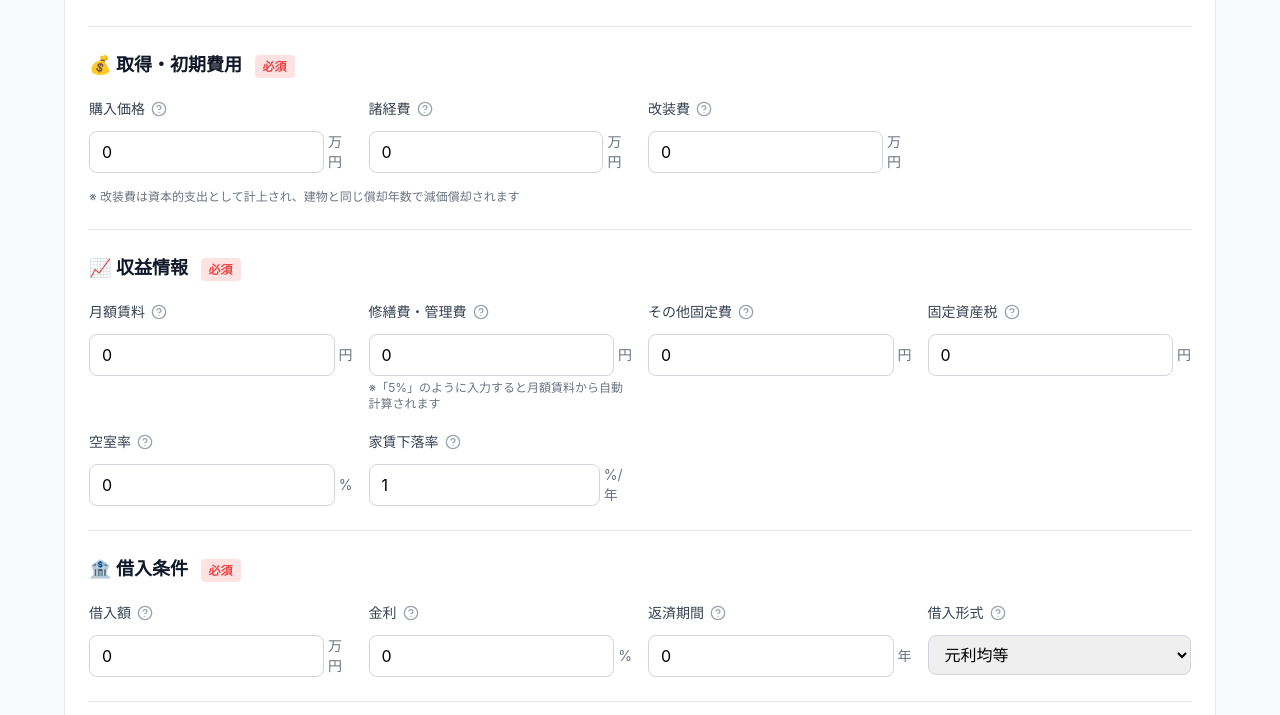
Scenario: BUG_005: 管理手数料％入力 › 全角パーセント記号も処理できる
(page scrolled)
//  月額賃料を設定
Replace the text in the 4th number field with placeholder "250000" with "200000" at (212,355), box [89,334,334,376]
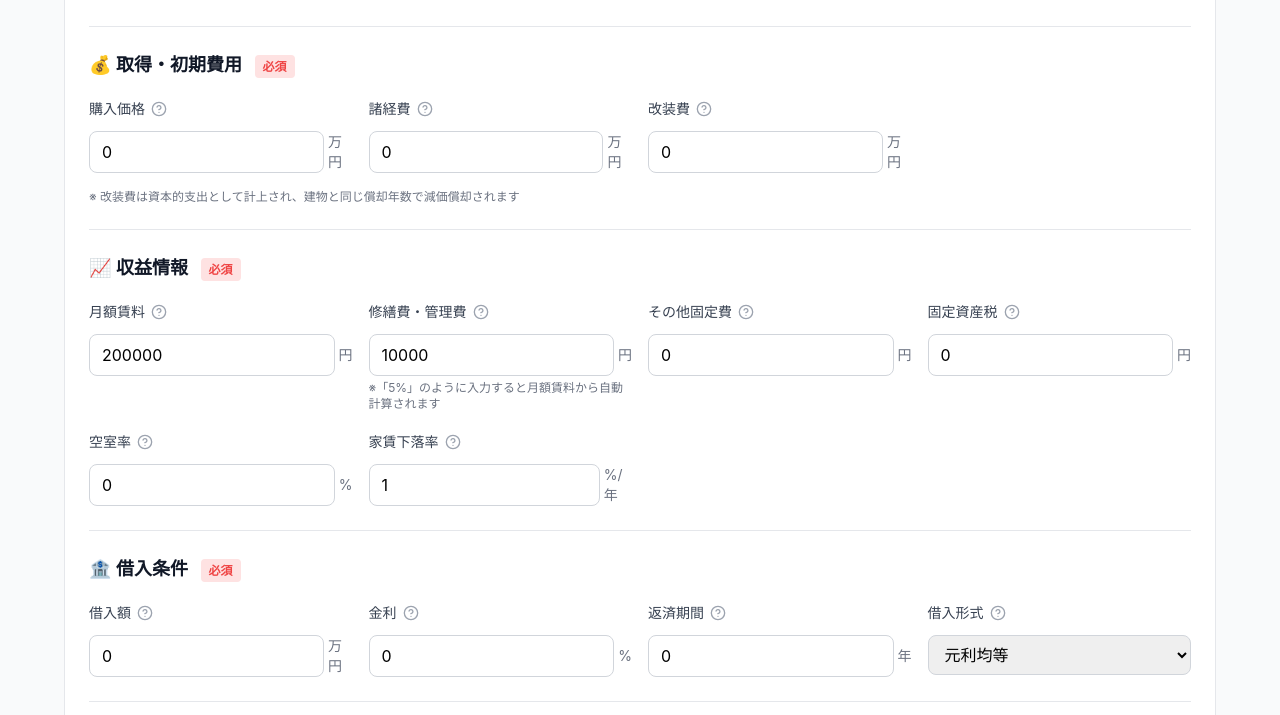
// 全角パーセント入力
Replace the text in the field with placeholder "12500円 または 5%" with "３％" at (491,355), box [368,334,614,376]
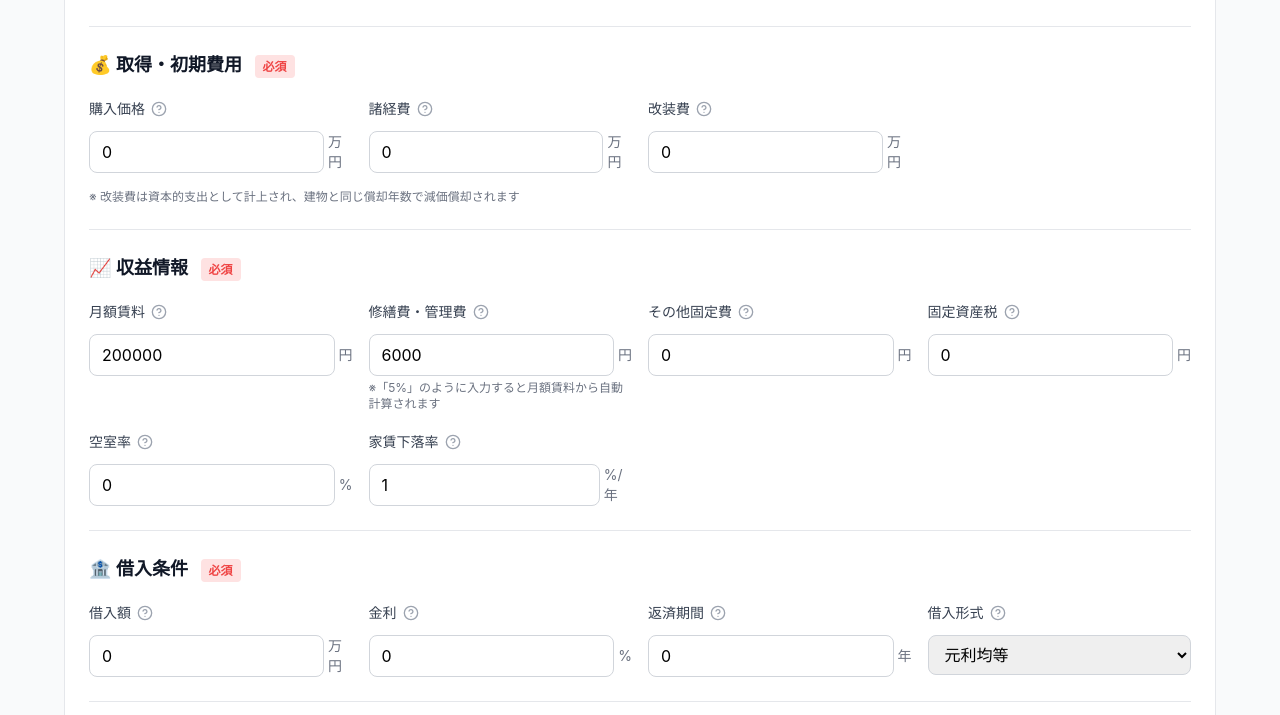
Check: the field with placeholder "12500円 または 5%" holds "6000", box [368,334,614,376]
